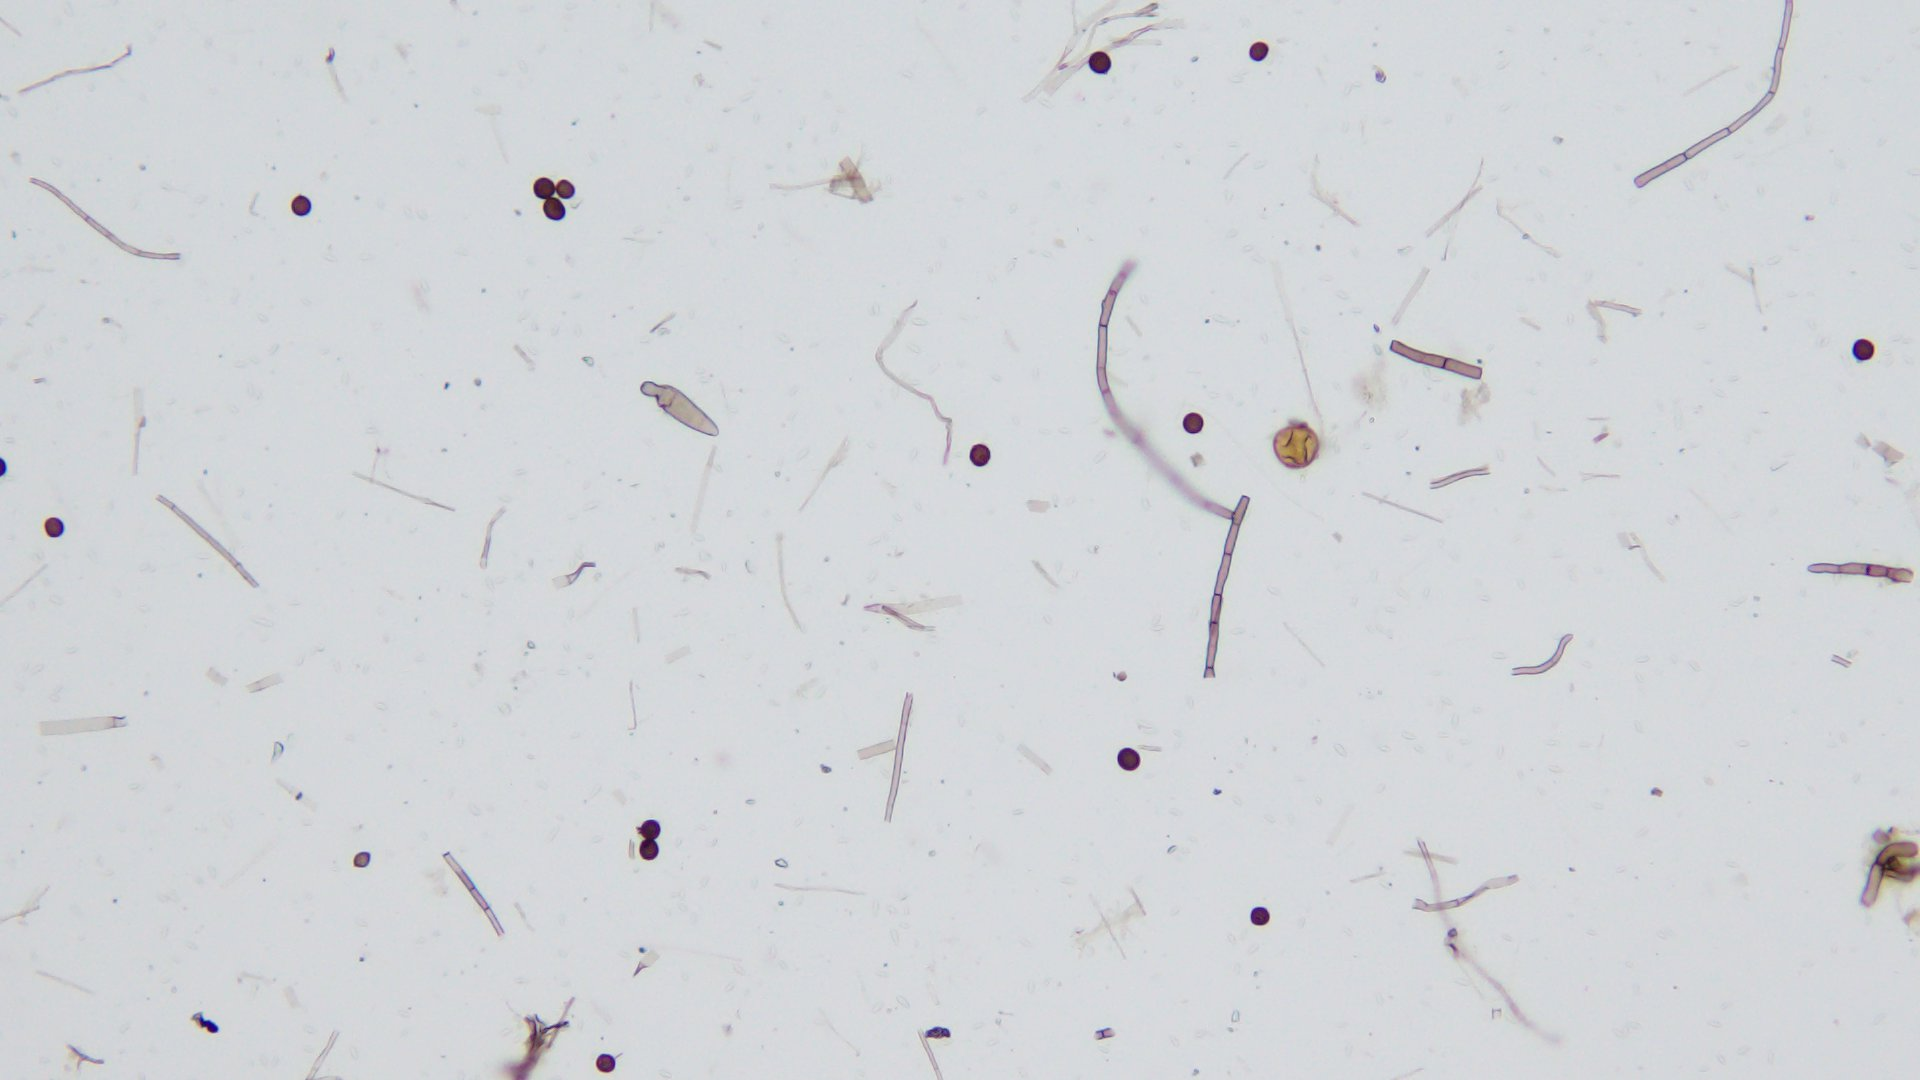dbb_spore: (641, 380, 720, 440)
shs_spore: (541, 198, 567, 222), (1087, 51, 1113, 75), (967, 443, 992, 467), (531, 177, 556, 199), (1853, 338, 1875, 363), (638, 839, 662, 861), (1117, 748, 1139, 770), (1182, 413, 1205, 434), (290, 196, 313, 218), (1247, 41, 1270, 62), (1249, 906, 1271, 927), (555, 178, 576, 199), (44, 516, 65, 535), (595, 1054, 616, 1071), (640, 820, 659, 837)
xb_spore: (1275, 425, 1321, 468)
